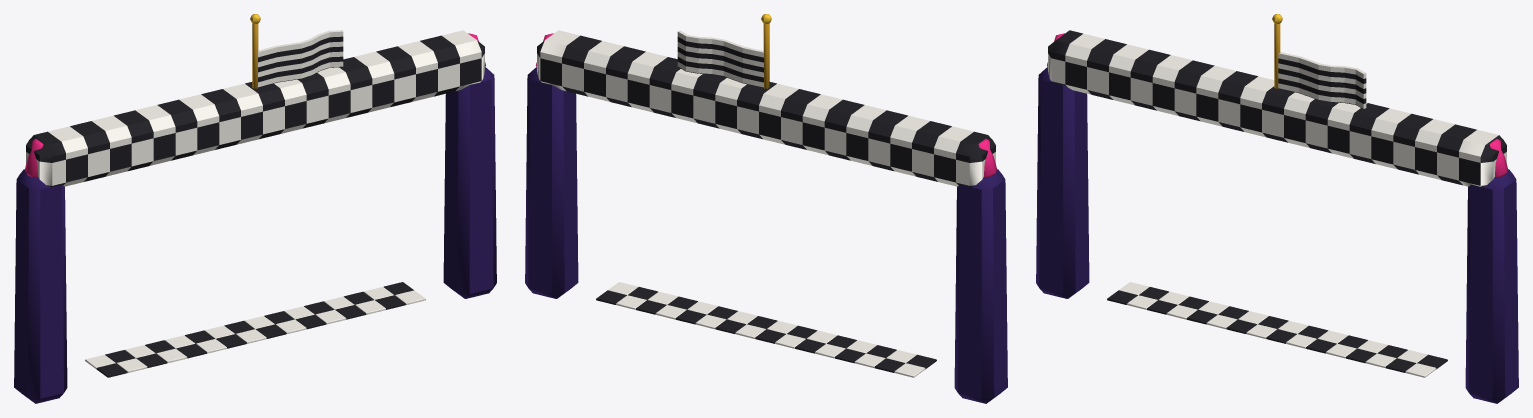
Rendered from Track_Finish.fbx.
3 renders of one model, left to right at view 1: azimuth 30°, elevation 25°; view 2: azimuth 150°, elevation 25°; view 3: azimuth 330°, elevation 25°, orthographic.
Visible parts, largest first — view 1: Static, Flag; view 2: Static, Flag; view 3: Static, Flag.
Part boxes in pixels (<box>): Static: <box>14,14,496,403</box>; Flag: <box>258,30,343,87</box>; Static: <box>525,14,1007,403</box>; Flag: <box>677,30,763,87</box>; Static: <box>1036,14,1518,403</box>; Flag: <box>1278,52,1366,109</box>.
Bounding box in the file's own units: 11.8 × 7.92 × 1.
